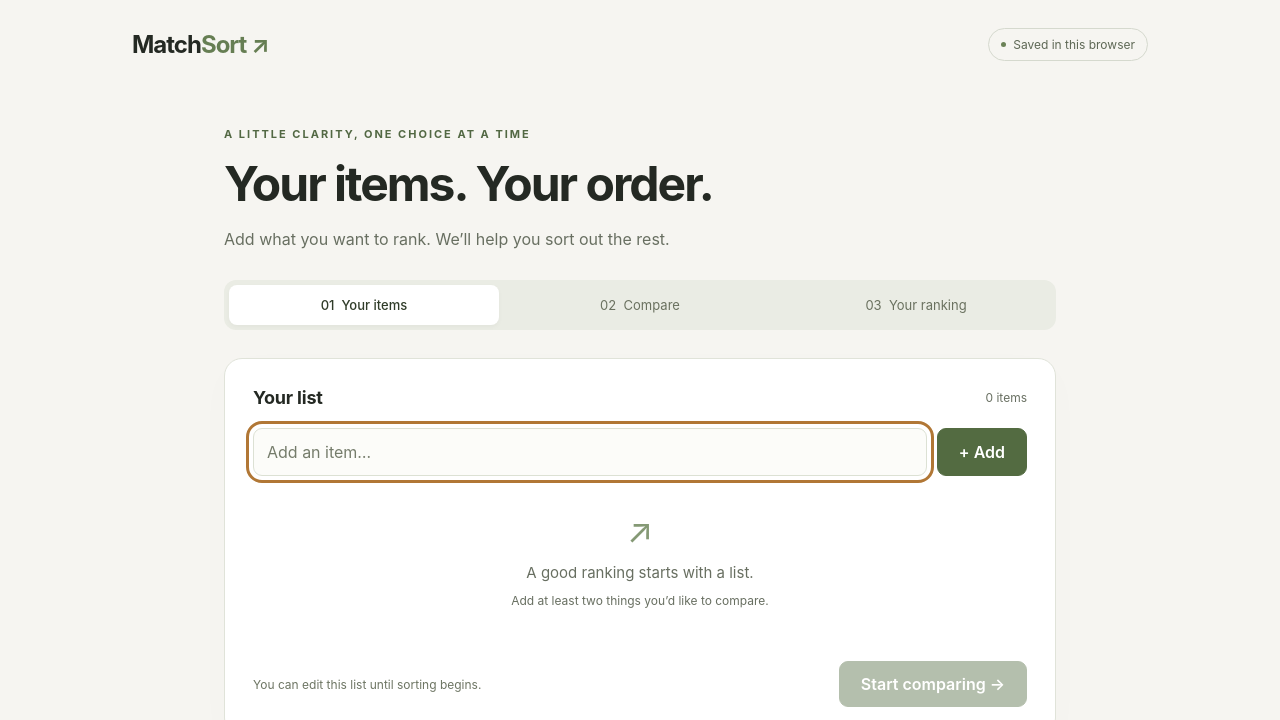
adds by Enter or button, validates input, removes items, and enables Start only with two items
Check: the button "Start comparing →" is disabled, box [839,661,1027,707]
Click the button "+ Add": {"x": 982, "y": 452} [937,428,1027,476]
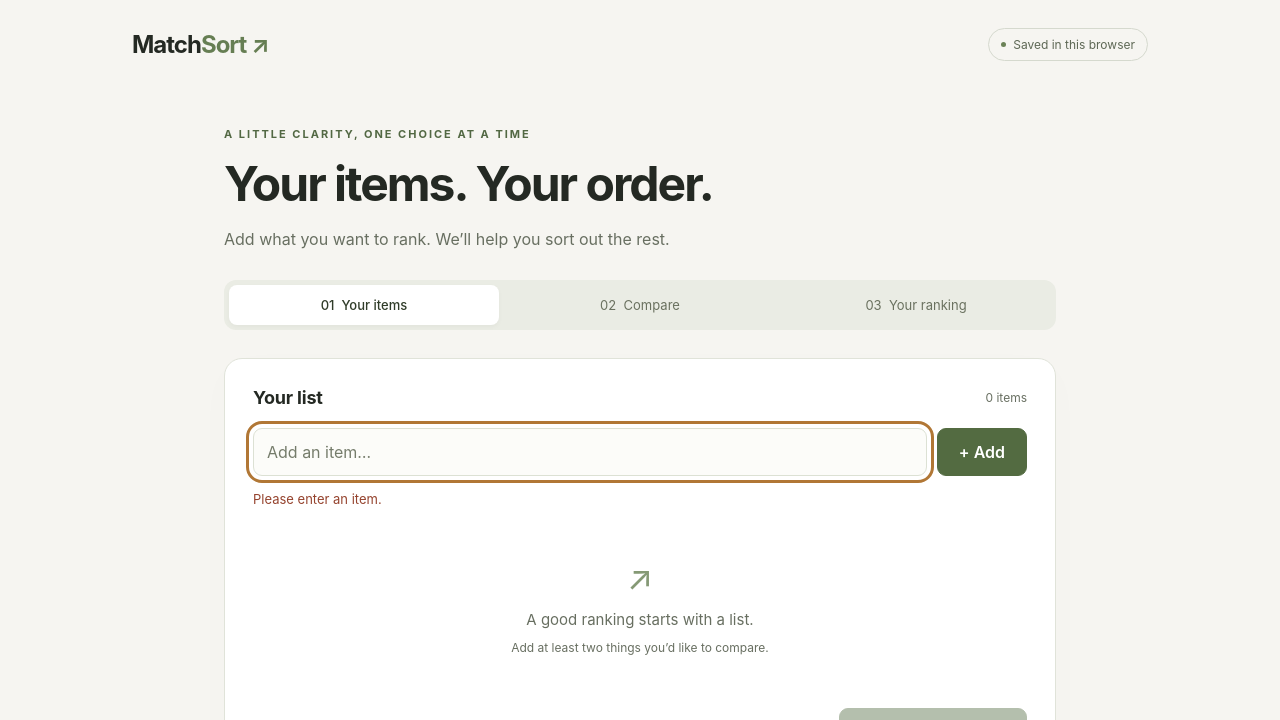
Check: the message "Please enter an item." is shown, box [253,491,382,507]
In the field named "New item": {"x": 590, "y": 452} [253,428,927,476], type "  Coffee  "
Then press Enter
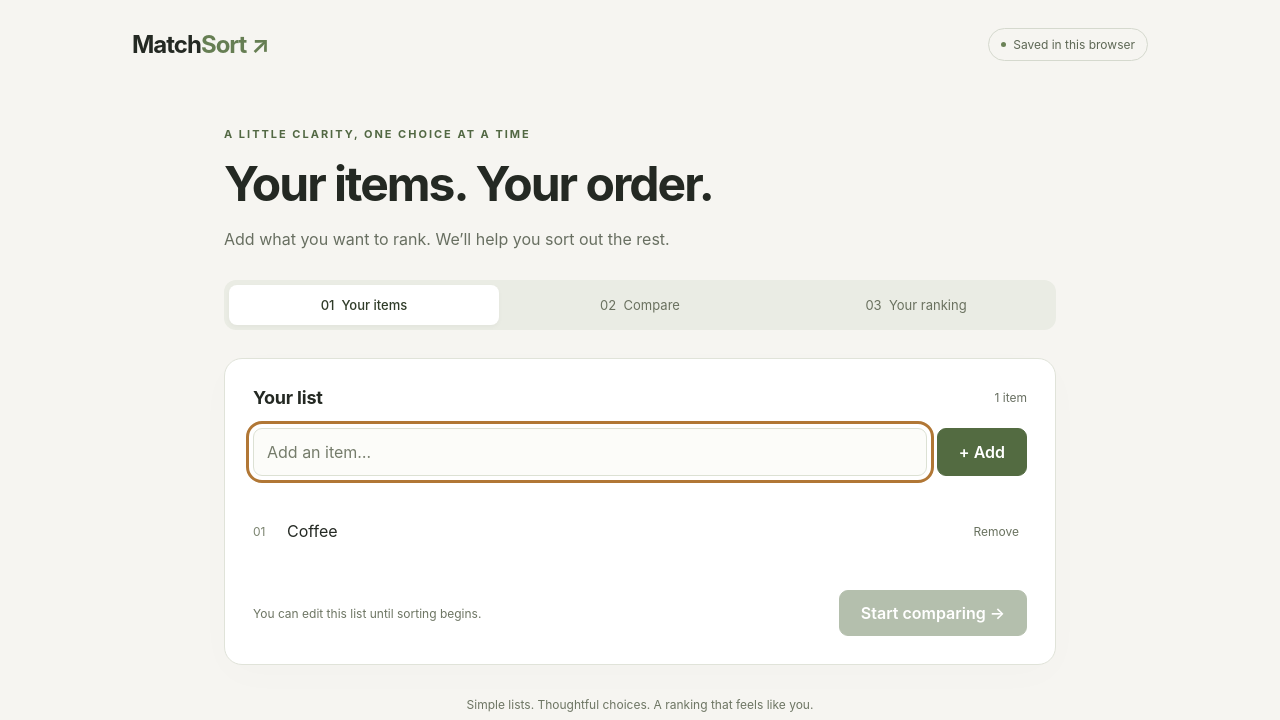
Check: the text "Coffee" is shown, box [287,521,338,541]
In the field named "New item": {"x": 590, "y": 452} [253,428,927,476], type "Coffee"
Click the button "+ Add": {"x": 982, "y": 452} [937,428,1027,476]
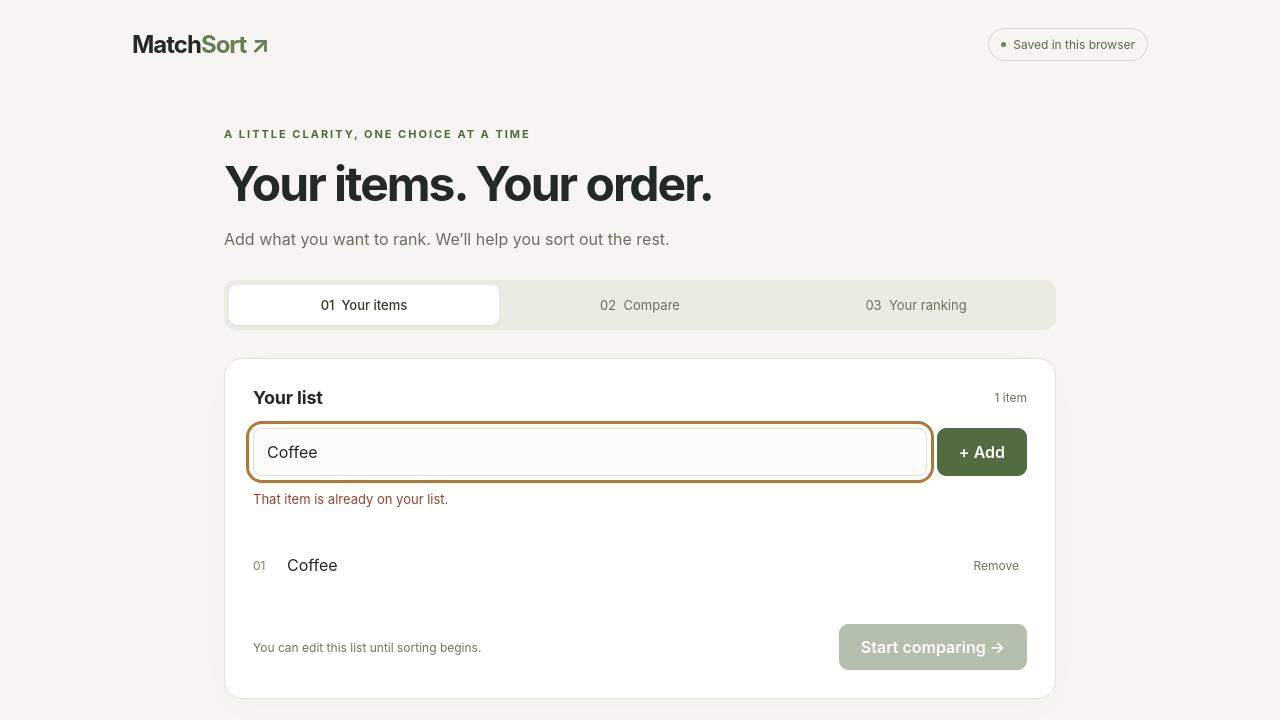
Check: the message "That item is already on your list." is shown, box [253,491,448,507]
Replace the text in the field named "New item" with "Ocean": {"x": 590, "y": 452} [253,428,927,476]
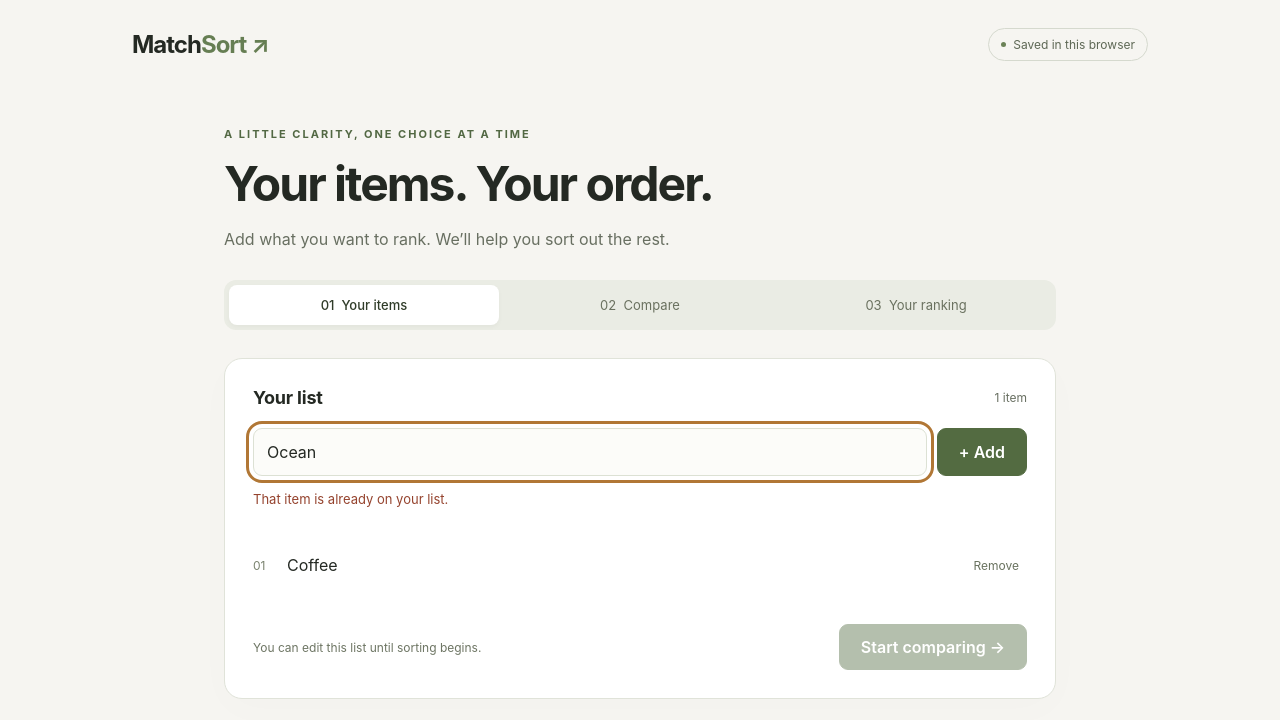
Click the button "+ Add": {"x": 982, "y": 452} [937,428,1027,476]
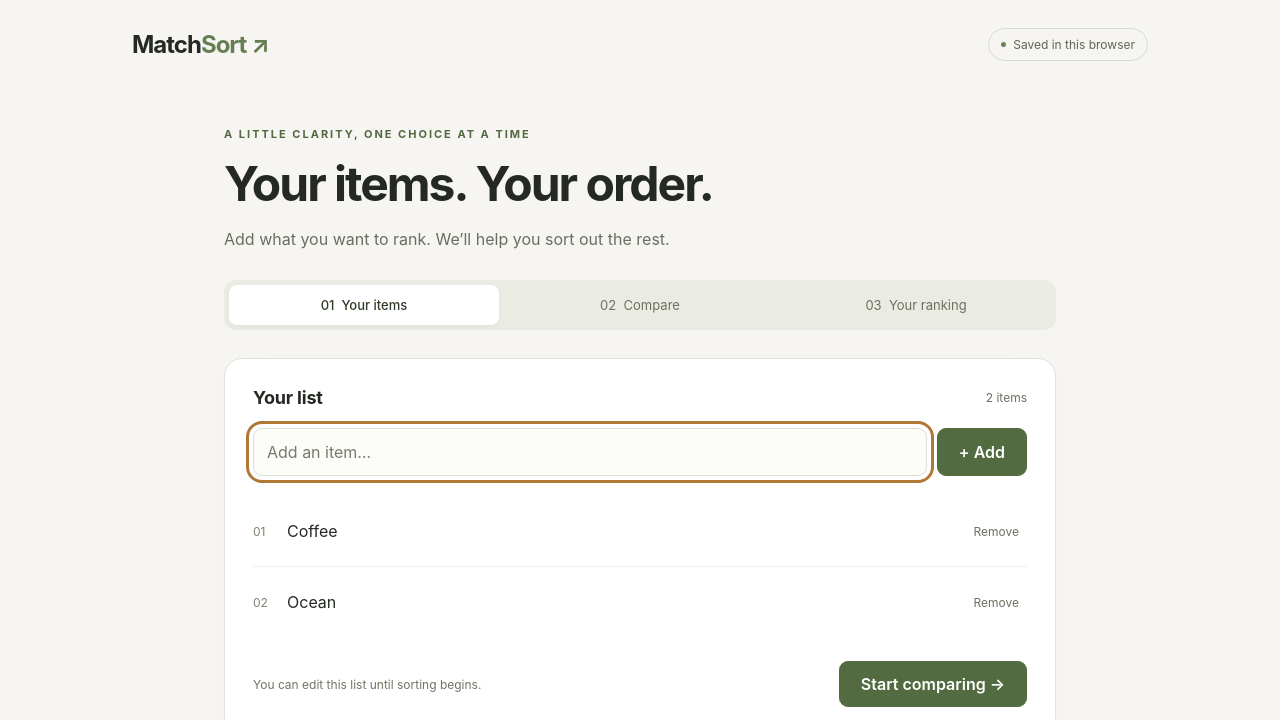
Check: the button "Start comparing →" is enabled, box [839,661,1027,707]
Click the button with aria-label "Remove Coffee": {"x": 996, "y": 531} [966,509,1027,553]
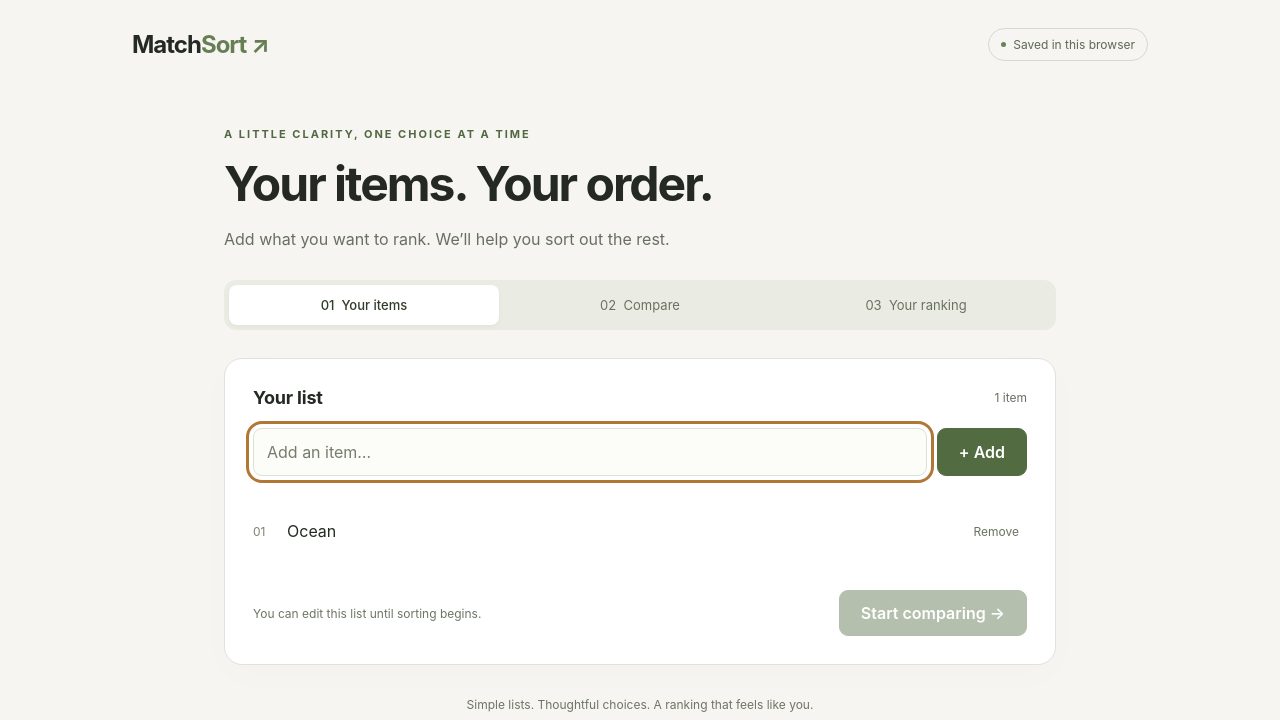
Check: the button "Start comparing →" is disabled, box [839,590,1027,636]
